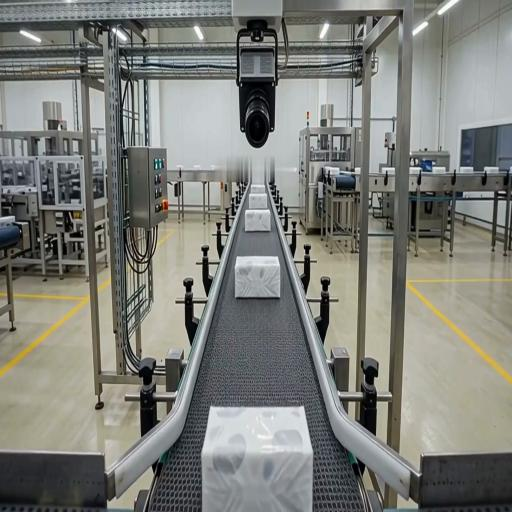good: (202, 407, 313, 511), (235, 256, 280, 298), (245, 210, 270, 231), (249, 193, 267, 209), (251, 184, 265, 193)
